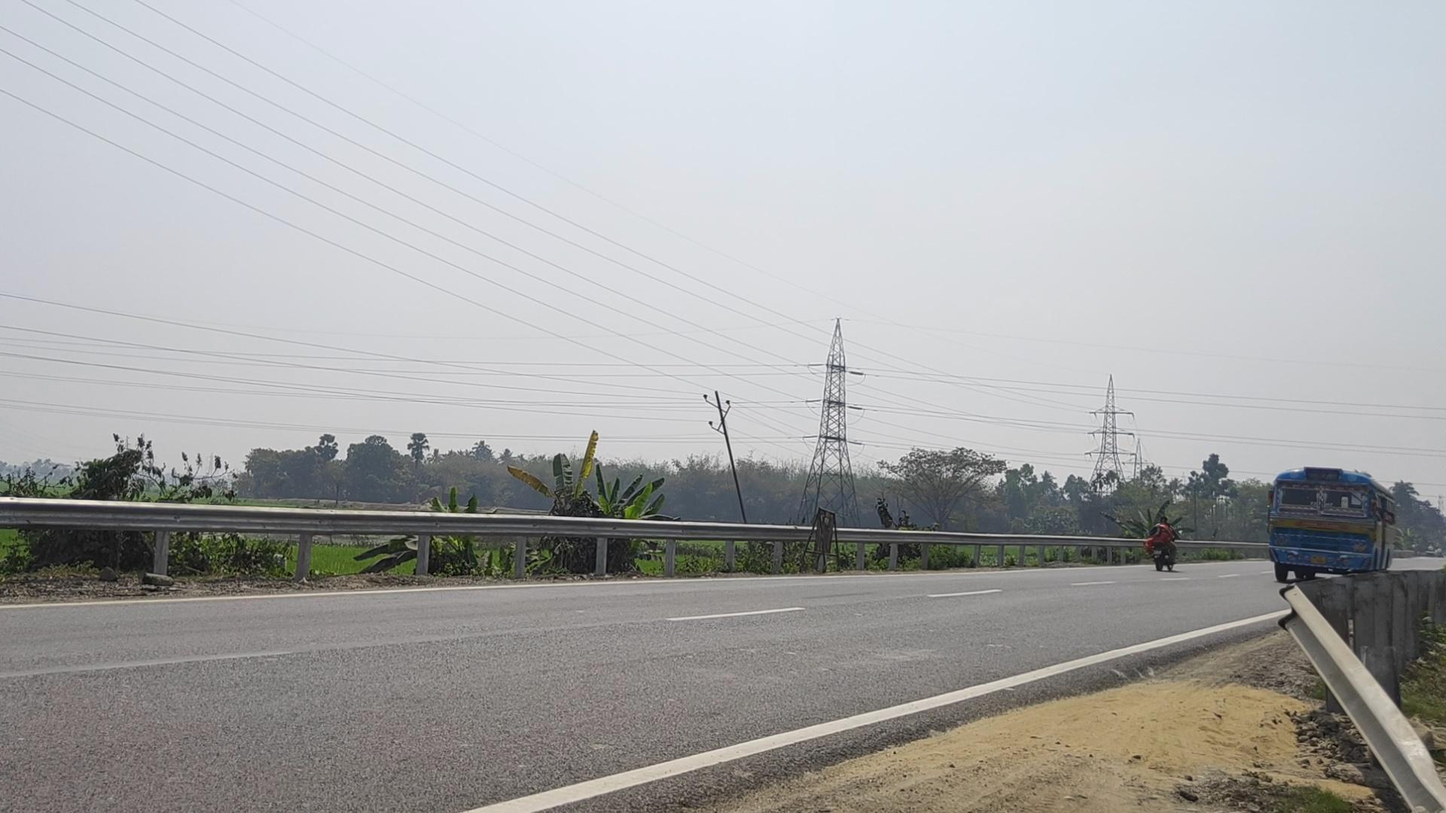Bus: (1268, 467, 1396, 585)
bike: (1145, 515, 1183, 572)
